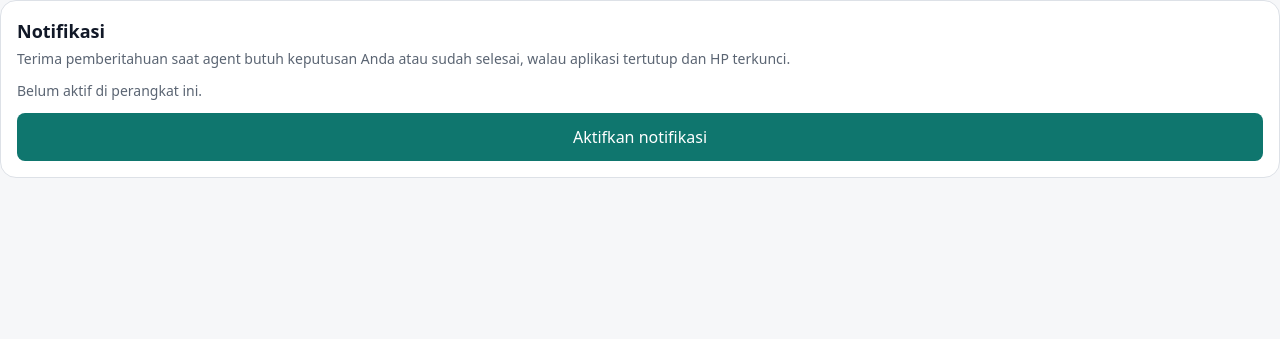
Test: NotificationsSection › mengetuk Aktifkan meminta izin LANGSUNG di ketukan itu (bukan setelah menunggu apa pun), lalu menjadi aktif
Click the button "Aktifkan notifikasi".
click(640, 137)  # box [17,113,1263,161]
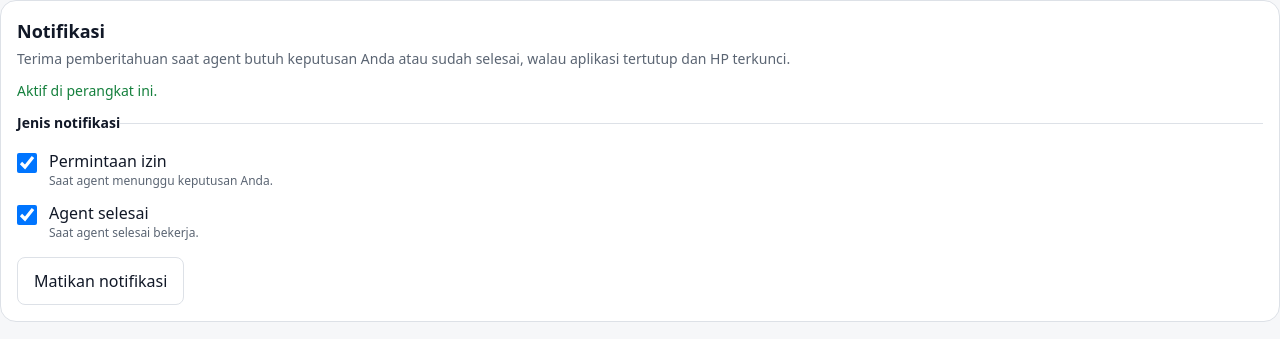
Expected: the text "Aktif di perangkat ini." is shown, [17,81,157,100]
Expected: the button "Matikan notifikasi" is shown, [17,257,184,305]
